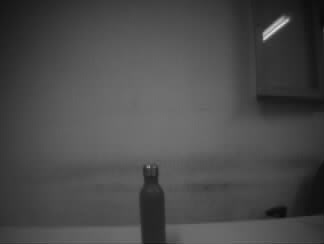Bottle: (140, 164, 165, 244)
